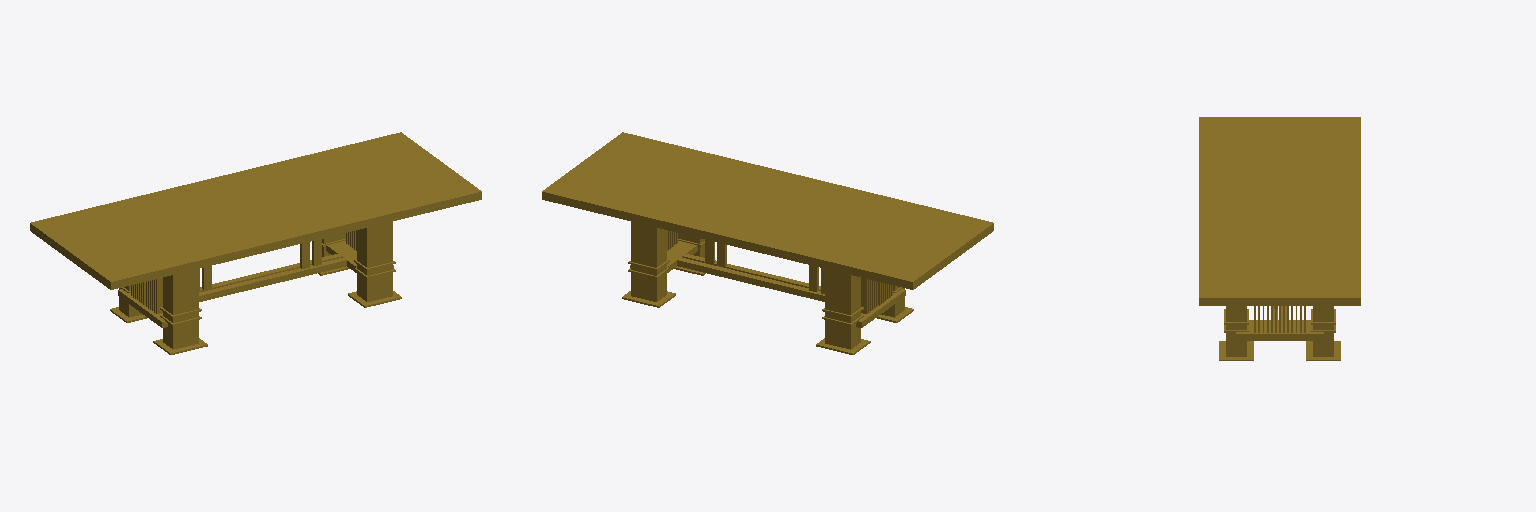
The model's file is table.obj.
3 renders of one model, left to right at view 1: azimuth 30°, elevation 25°; view 2: azimuth 150°, elevation 25°; view 3: azimuth 270°, elevation 25°, orthographic.
Parts seen in each view (by area): view 1: flwt_top, flwt_legs, flwt_xbar, flwt_slats, flwt_base, flwt_shlfb, flwt_trim; view 2: flwt_top, flwt_legs, flwt_xbar, flwt_slats, flwt_base, flwt_shlfb, flwt_trim; view 3: flwt_top, flwt_legs, flwt_shlfb, flwt_base, flwt_slats.
Part boxes in pixels (x1,y1,x2,y2): flwt_top: (30,132,481,289); flwt_legs: (119,222,392,349); flwt_xbar: (199,254,346,301); flwt_slats: (131,230,356,313); flwt_base: (110,266,401,354); flwt_shlfb: (118,241,393,327); flwt_trim: (121,233,395,325); flwt_top: (542,132,993,289); flwt_legs: (631,222,904,349); flwt_xbar: (677,254,824,301); flwt_slats: (667,230,892,313); flwt_base: (622,260,913,354); flwt_shlfb: (630,241,905,327); flwt_trim: (628,233,902,325); flwt_top: (1199,117,1360,305); flwt_legs: (1226,306,1333,356); flwt_shlfb: (1236,320,1323,340); flwt_base: (1219,341,1340,360); flwt_slats: (1254,306,1305,332).
Size of the model in its own units: 110 by 27.7 by 41.7.